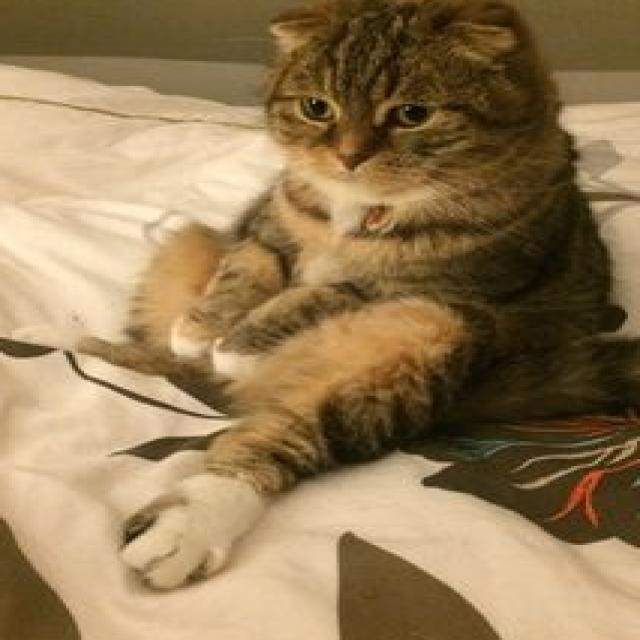Scottish Fold: (12, 0, 640, 593)
